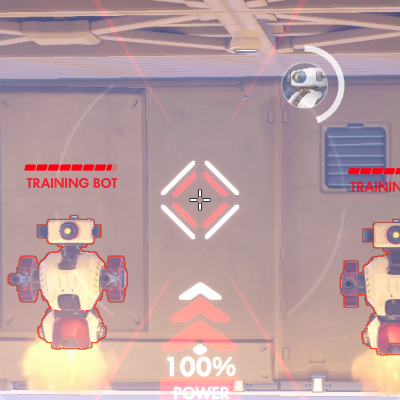hpbar: (24, 163, 118, 172), (348, 167, 400, 175)
